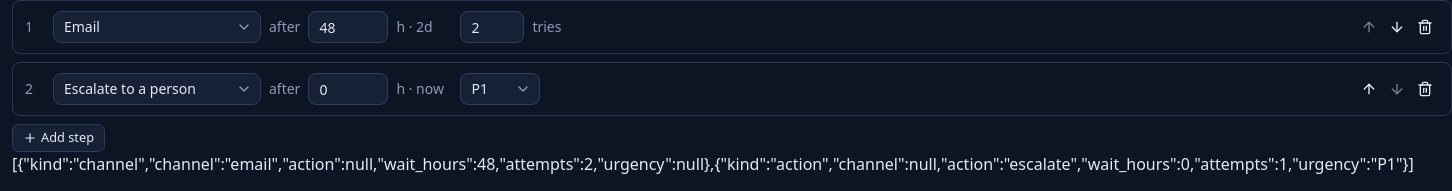
Scenario: LadderEditor typing › keeps focus and every digit while typing a wait
Step 1. Replace the text in the number field named "Wait in hours" in the row of "2d" with "120" → point(348, 27), box [308,11,388,43]
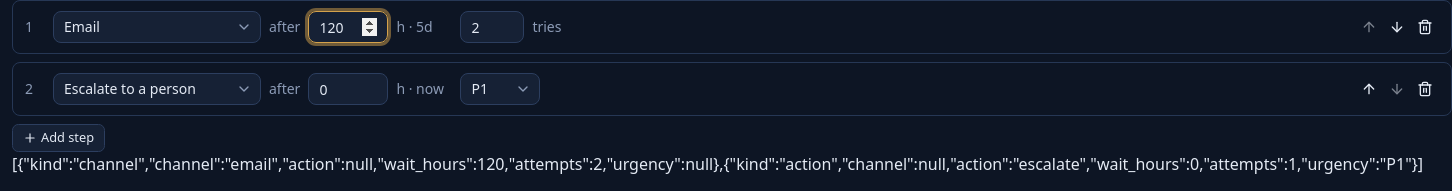
Expected: the text "h · 5d" is shown, [396,17,433,36]
